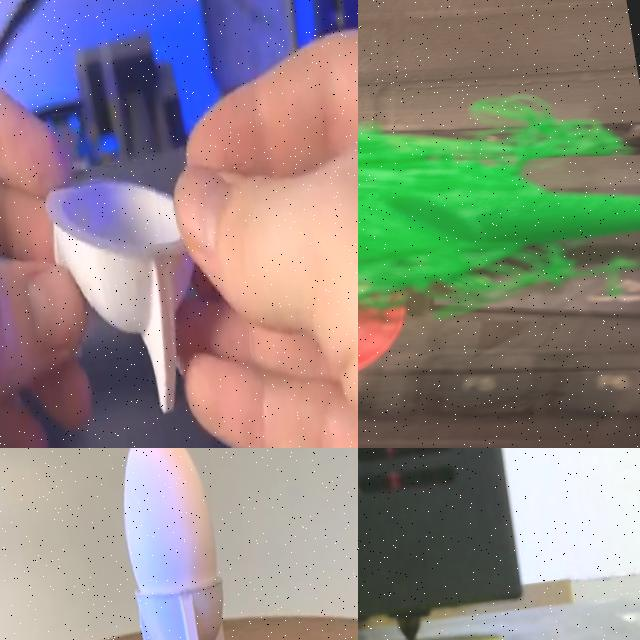spaghetti: (358, 95, 640, 309)
